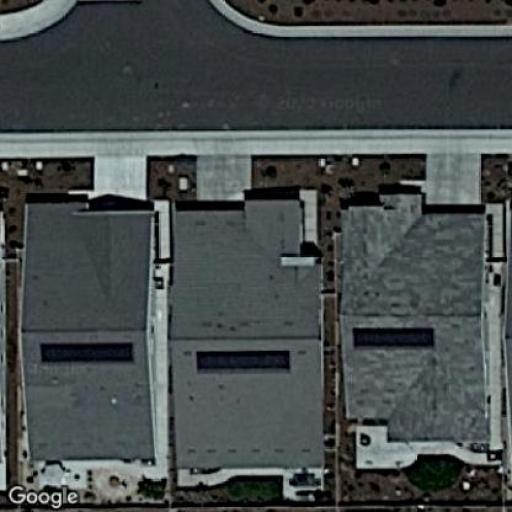solar-panel: (194, 346, 295, 378), (36, 338, 138, 367), (350, 323, 438, 353)
